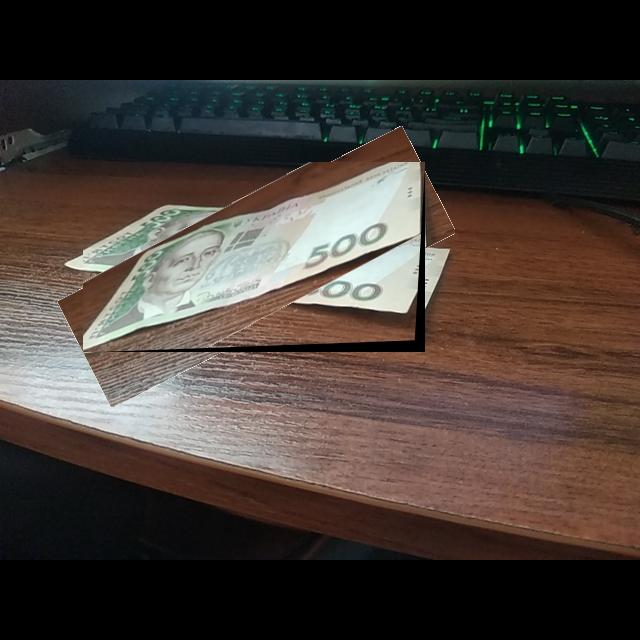500uah: (83, 162, 423, 351)
